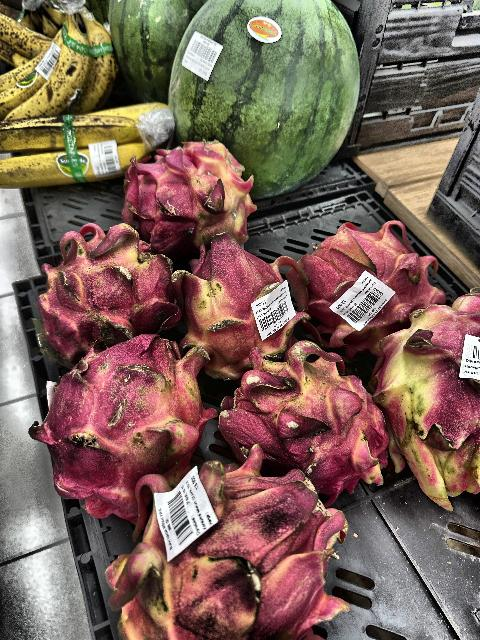buah-naga-belum-matang: (100, 450, 342, 640), (36, 329, 214, 525), (370, 291, 480, 505), (226, 353, 392, 489), (26, 222, 186, 351), (175, 230, 305, 364), (120, 138, 254, 244)
buah-naga-matang: (277, 212, 443, 344)
